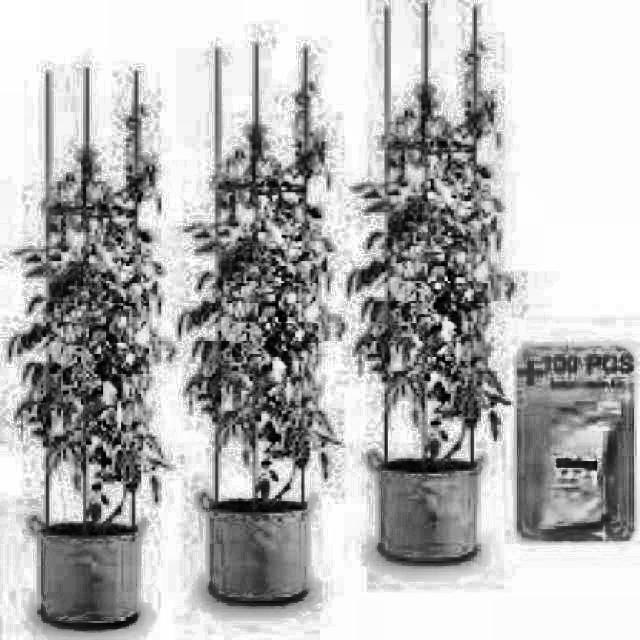plants: (346, 33, 520, 590), (172, 79, 345, 615), (3, 99, 172, 626)
